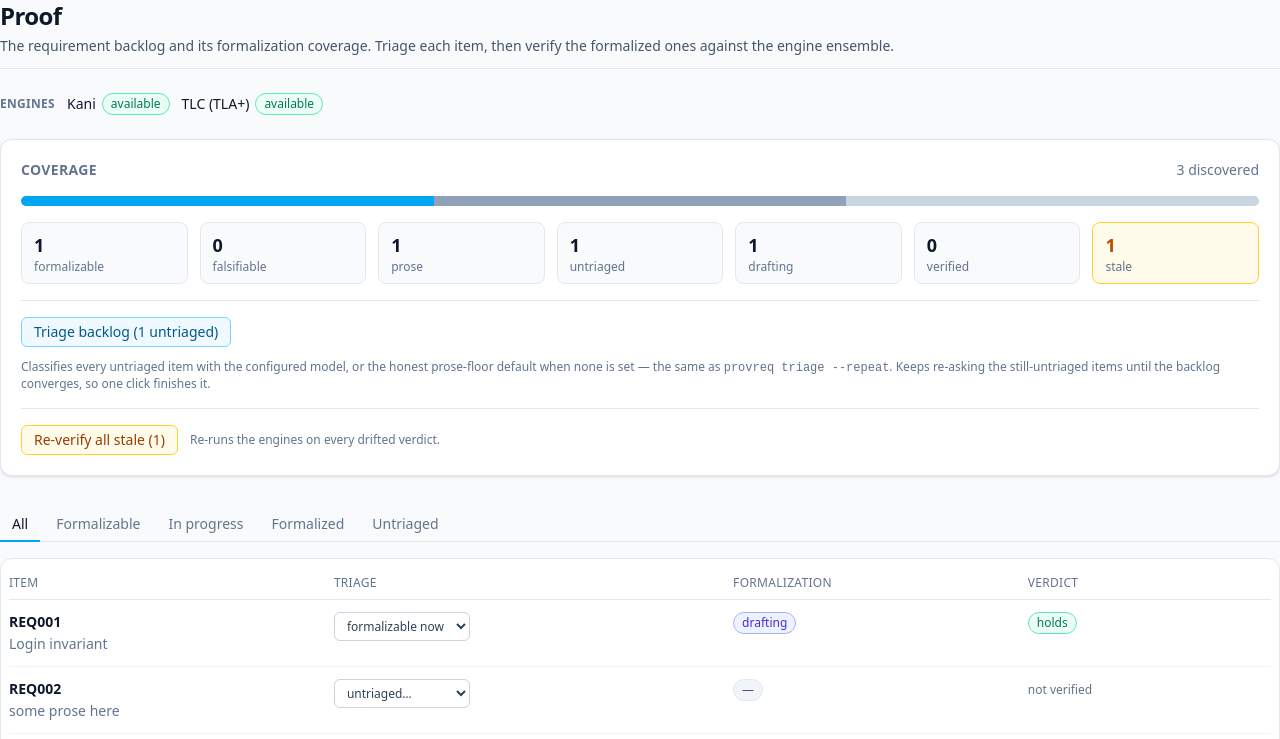
Test case: ProofPage › opens a requirement's detail dialog with its candidate and read-back
Click the button "REQ001": (35, 622) [9, 612, 61, 632]
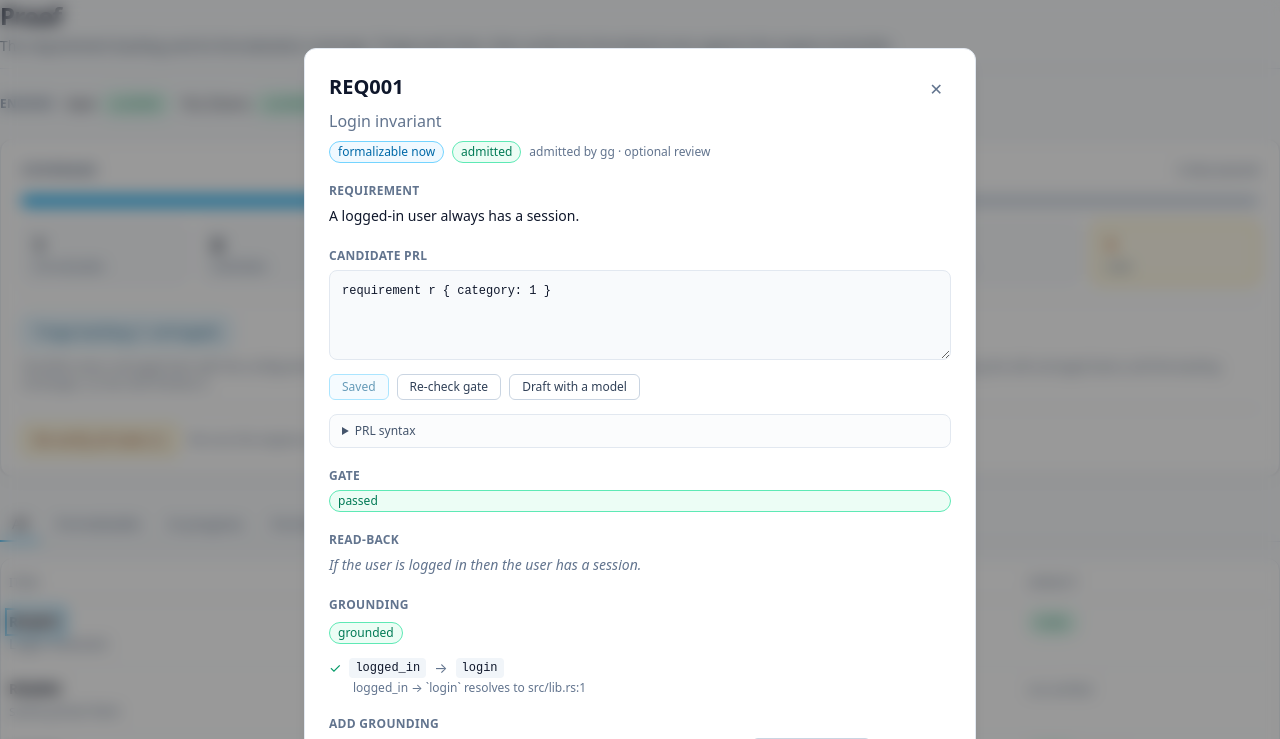
Expected: the text "If the user is logged in then the user has a session." is shown, [329, 555, 641, 574]
Expected: the text box "requirement r {" is shown, [329, 270, 951, 360]
Expected: the text "grounded" is shown, [329, 622, 403, 644]
